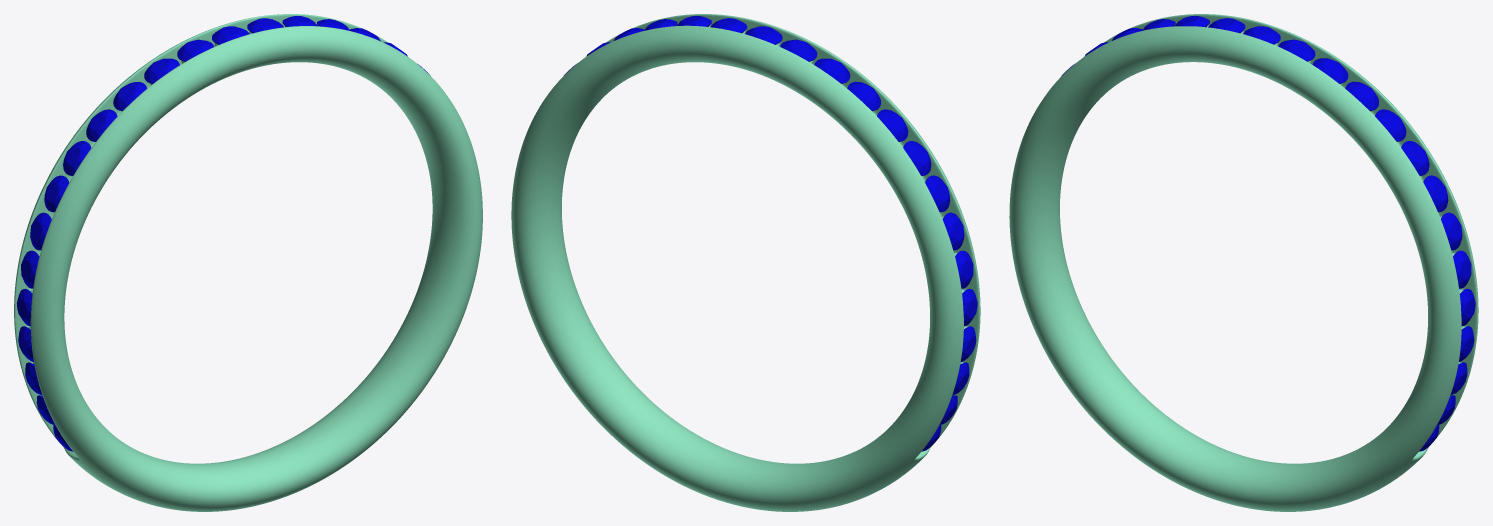
The picture shows the model from 3 angles, left to right: view 1: azimuth 30°, elevation 25°; view 2: azimuth 150°, elevation 25°; view 3: azimuth 330°, elevation 25°; orthographic projection.
Visible parts, largest first — view 1: Metal03, Diamond_Band.005, Diamond_Band.006, Diamond_Band.004, Diamond_Band.003, Diamond_Band.007, Diamond_Band.002; view 2: Metal03, Diamond_Band.005, Diamond_Band.004, Diamond_Band.006, Diamond_Band.003, Diamond_Band.007, Diamond_Band.002; view 3: Metal03, Diamond_Band.022, Diamond_Band.023, Diamond_Band.021, Diamond_Band.024, Diamond_Band.020, Diamond_Band.025.
Boxes of the visible parts, box(x1,y1,x2,y2) form: Metal03: box(14, 14, 482, 511); Diamond_Band.005: box(63, 141, 91, 175); Diamond_Band.006: box(44, 175, 69, 212); Diamond_Band.004: box(86, 109, 117, 141); Diamond_Band.003: box(113, 82, 146, 110); Diamond_Band.007: box(30, 212, 51, 250); Diamond_Band.002: box(144, 58, 179, 83); Metal03: box(511, 14, 980, 511); Diamond_Band.005: box(903, 141, 931, 175); Diamond_Band.004: box(877, 109, 908, 141); Diamond_Band.006: box(925, 175, 950, 212); Diamond_Band.003: box(847, 81, 880, 110); Diamond_Band.007: box(942, 212, 964, 250); Diamond_Band.002: box(814, 58, 850, 83); Metal03: box(1009, 14, 1478, 511); Diamond_Band.022: box(1401, 141, 1429, 175); Diamond_Band.023: box(1375, 109, 1406, 141); Diamond_Band.021: box(1423, 175, 1448, 212); Diamond_Band.024: box(1345, 81, 1378, 110); Diamond_Band.020: box(1441, 212, 1462, 250); Diamond_Band.025: box(1312, 58, 1348, 83).
Bounding box in the file's own units: 20.7 × 20.79 × 2.5.
